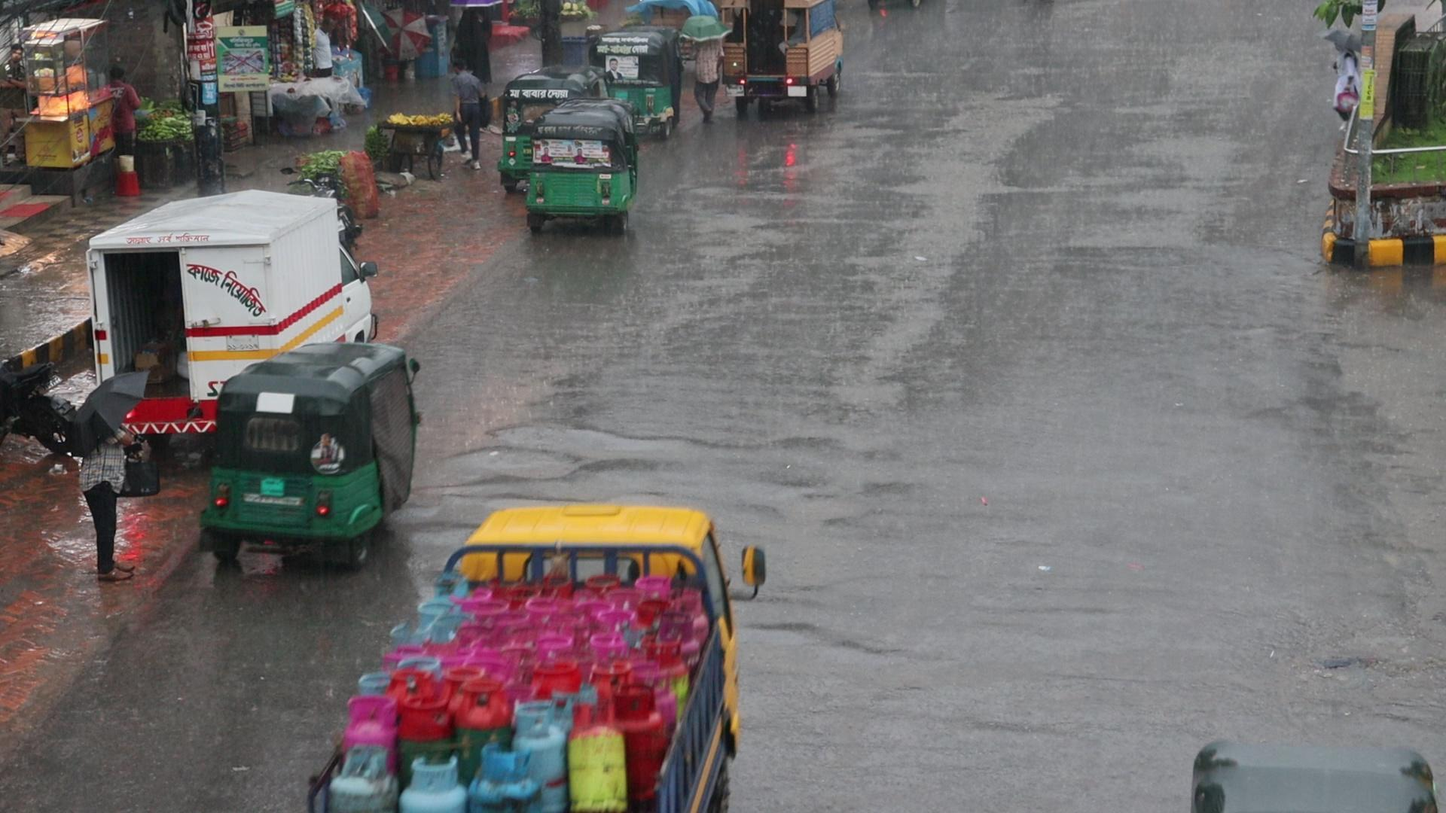Truck: (297, 501, 763, 813)
